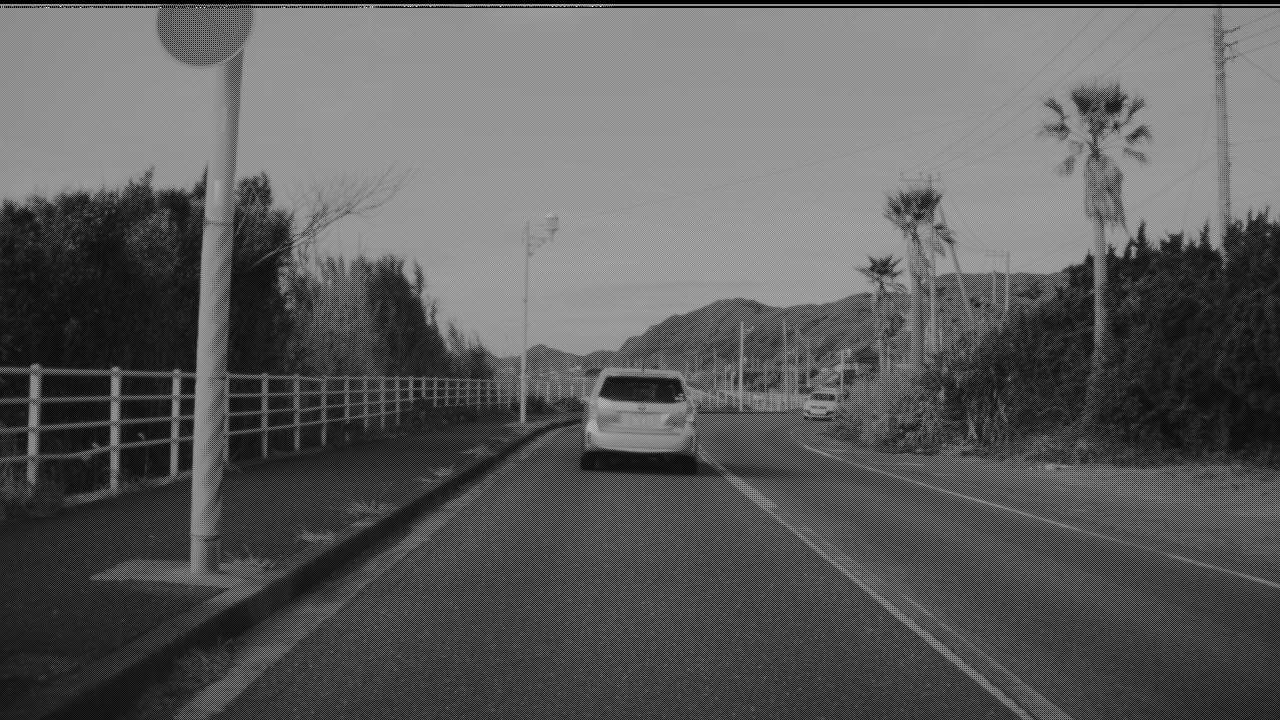pole: (190, 60, 242, 566), (1209, 1, 1232, 239), (519, 212, 529, 415), (739, 314, 743, 403)
